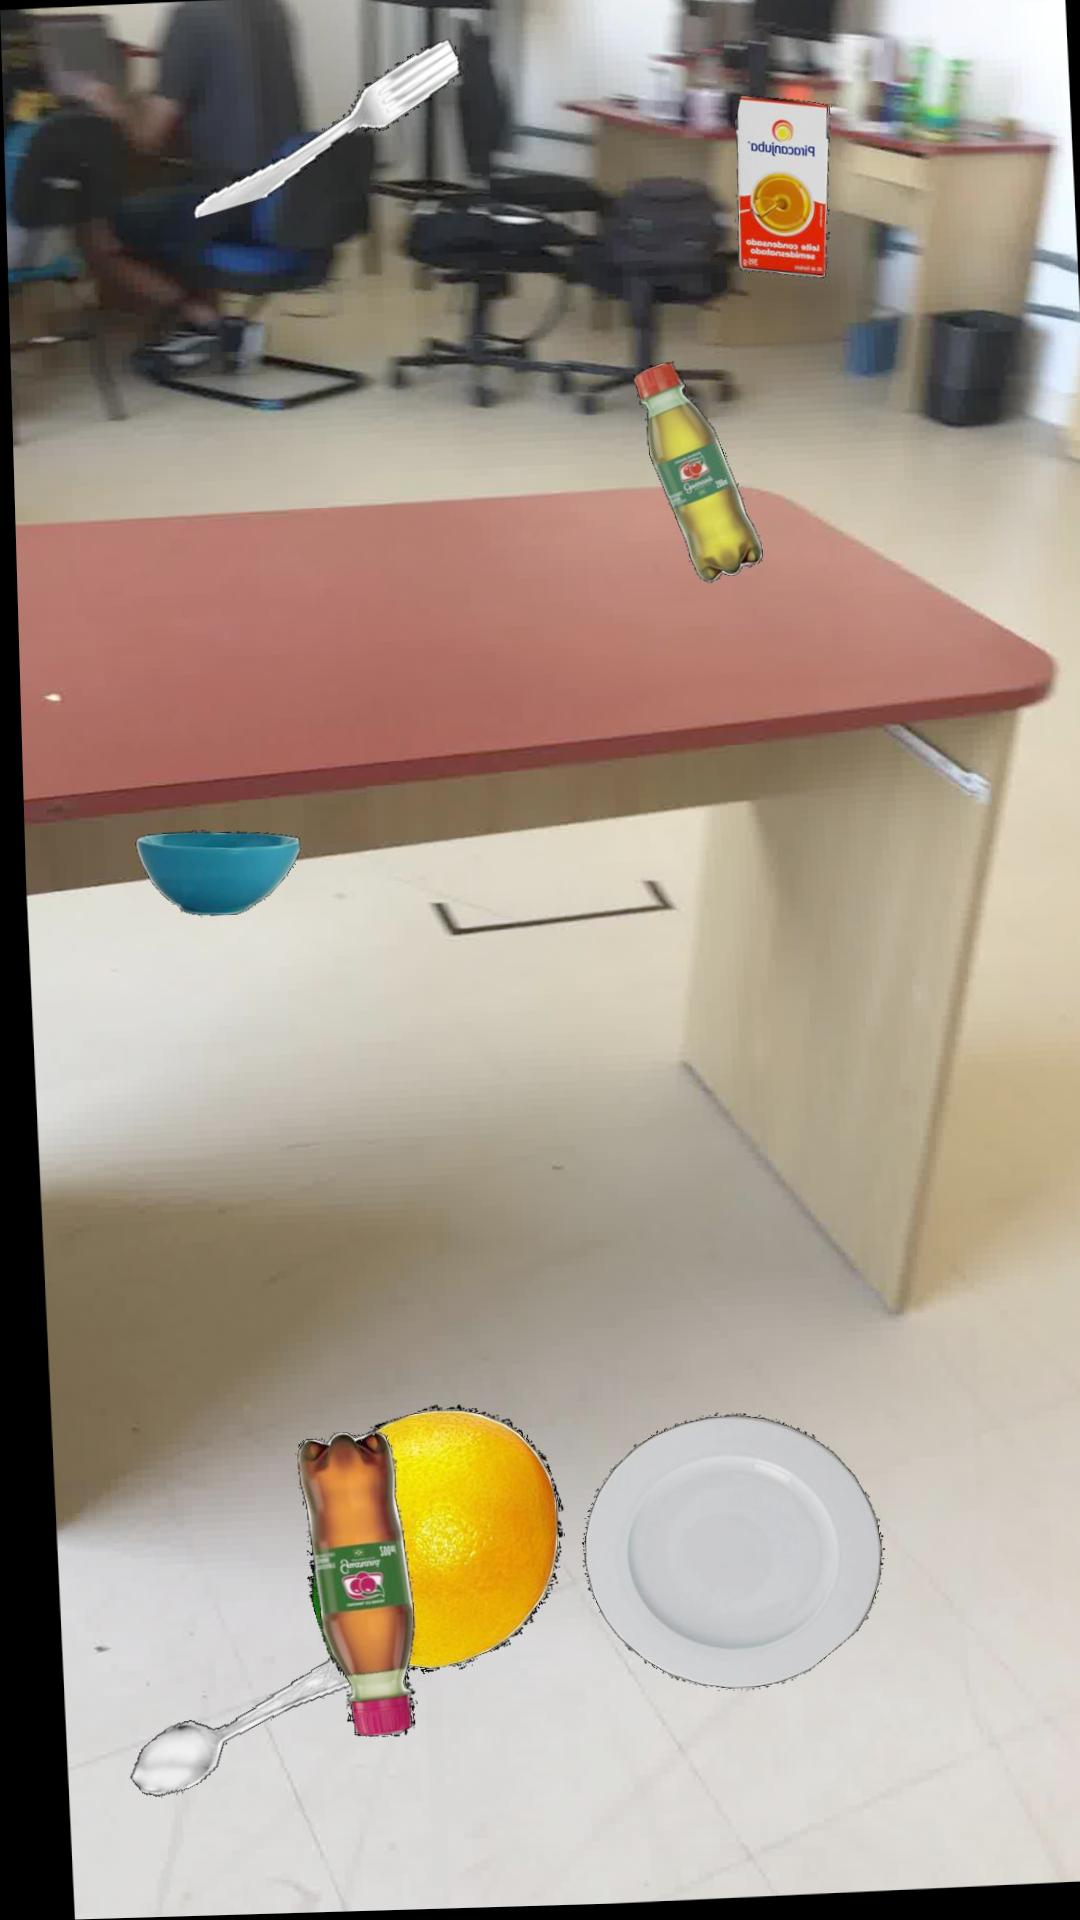bowl: (131, 829, 295, 914)
fork: (193, 40, 462, 218)
guarana: (289, 1431, 405, 1737), (630, 364, 760, 584)
orange: (297, 1404, 554, 1688)
plate: (574, 1416, 873, 1691)
spoon: (119, 1656, 340, 1795)
